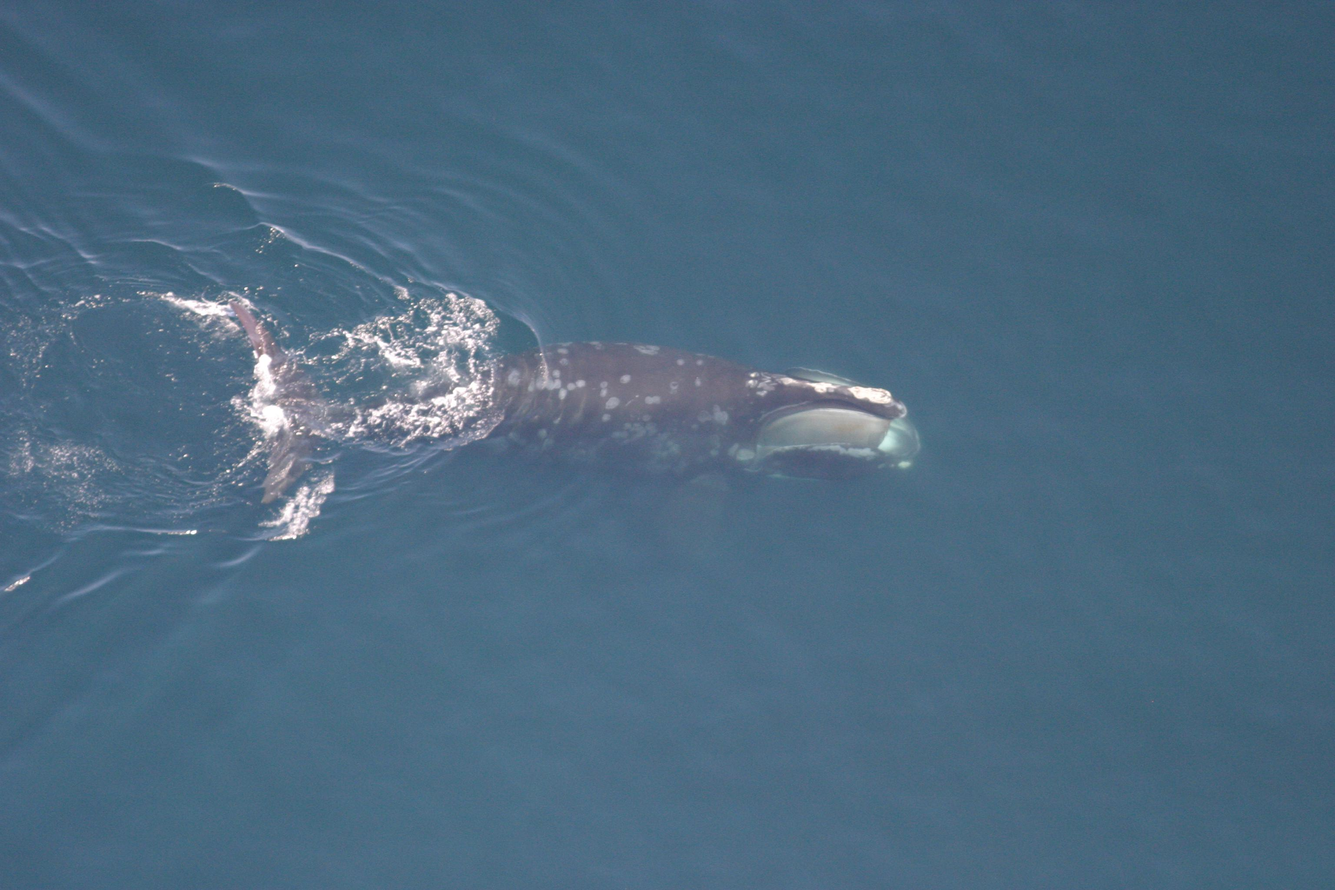whale: (209, 277, 927, 553)
